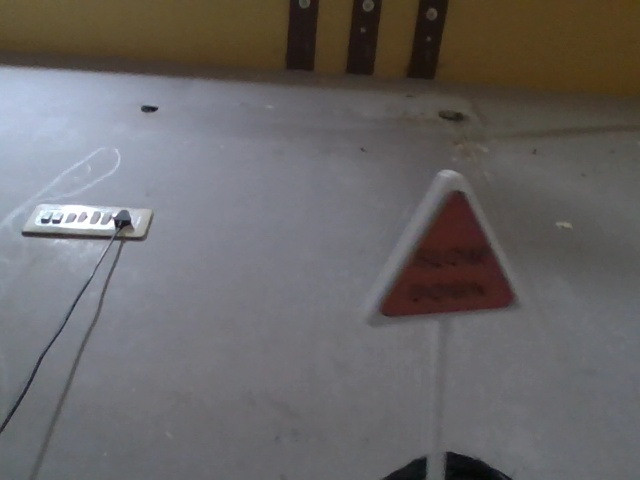slowdown: (374, 172, 519, 333)
